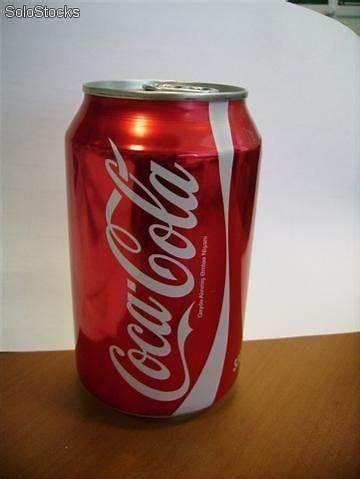metal: (66, 80, 261, 418)
